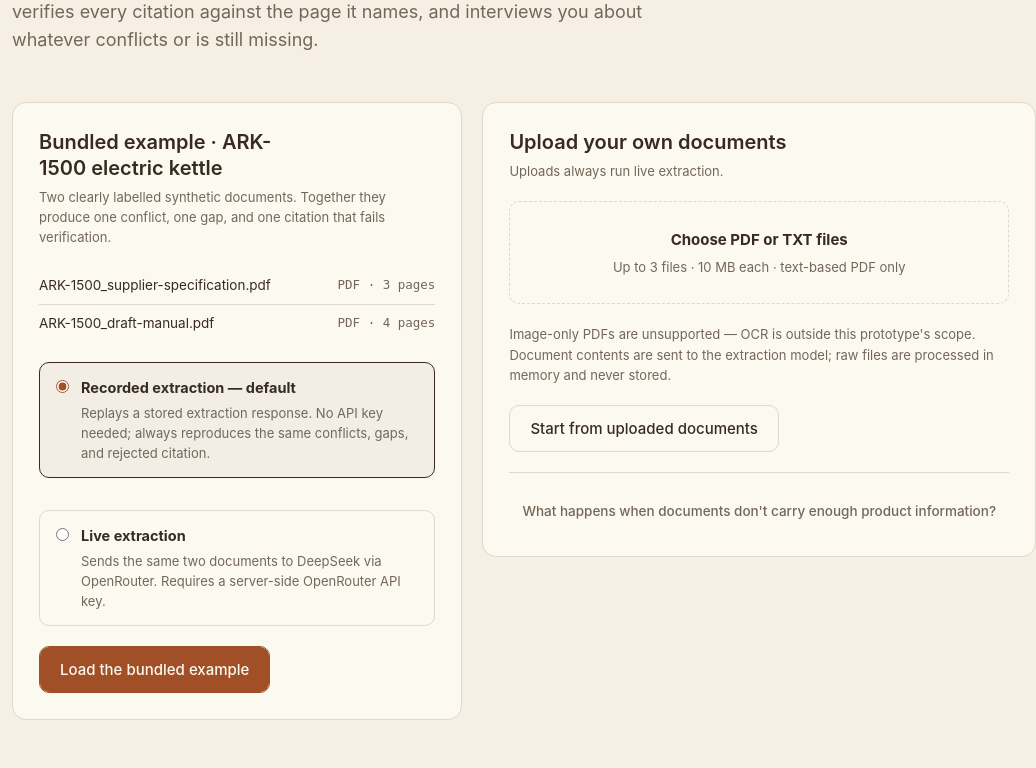
Scenario: Intake › switches bundled mode to live when live radio is selected
The image size is (1036, 768).
(page scrolled)
Click the radio button labelled "Live extraction". click: coordinates (62, 534)
box: 56,528 -> 69,541
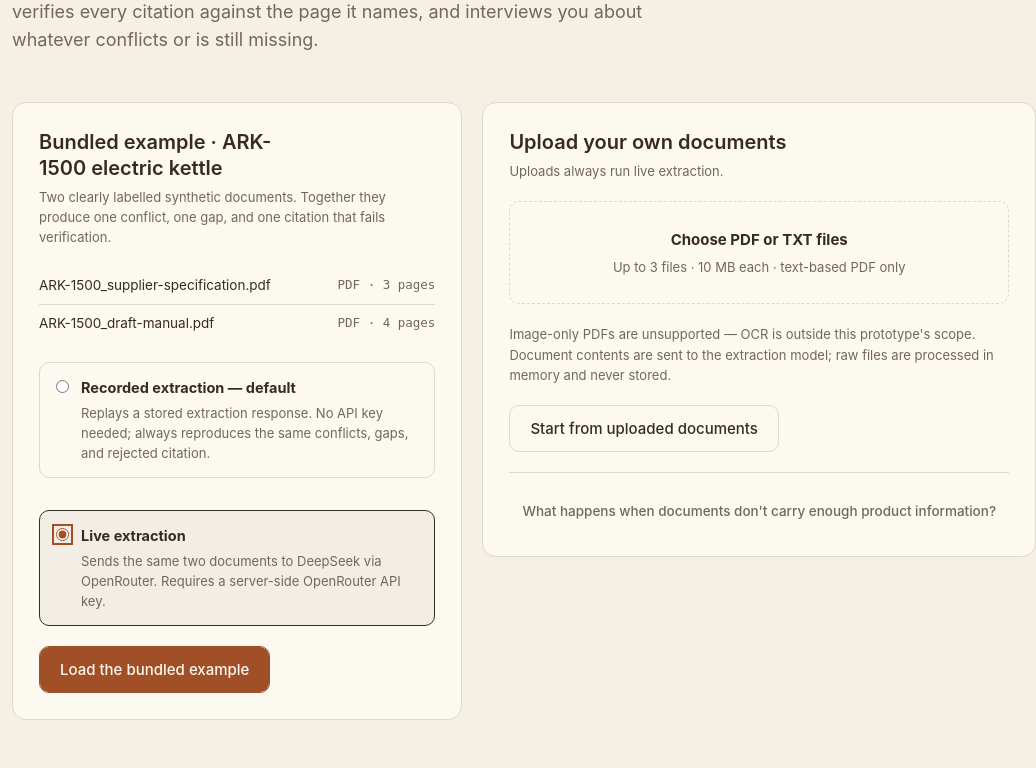
Expected: the radio button labelled "Live extraction" is checked, 56,528 -> 69,541
Expected: the radio button labelled "Recorded extraction" is not checked, 56,380 -> 69,393
